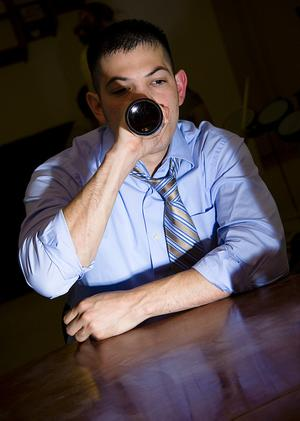person: (18, 18, 291, 346)
